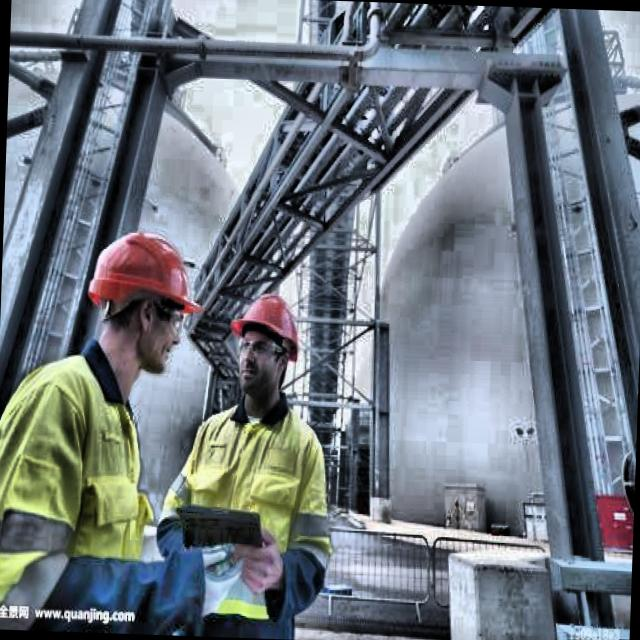helmet: (75, 215, 206, 380), (220, 278, 308, 414)
